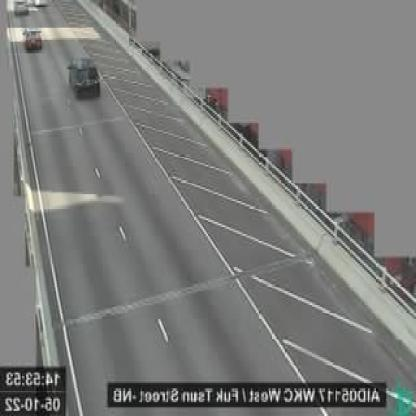Car: (68, 59, 100, 99), (24, 28, 42, 50)
